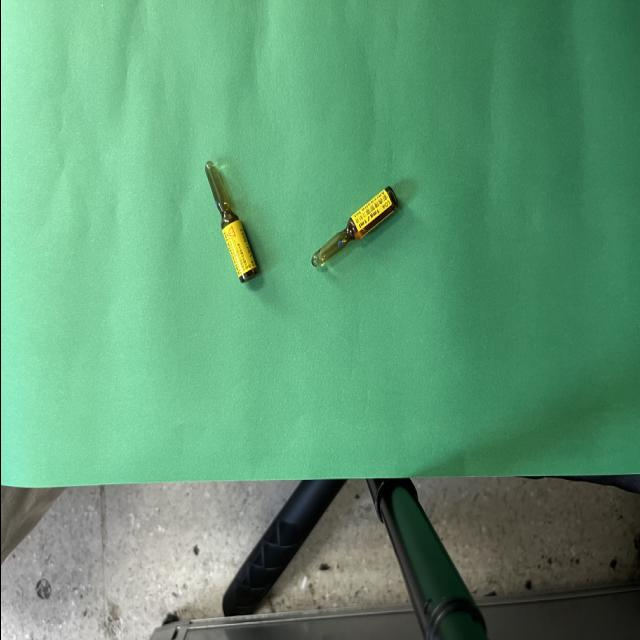Ampoules: (310, 187, 396, 267), (204, 162, 258, 283)
